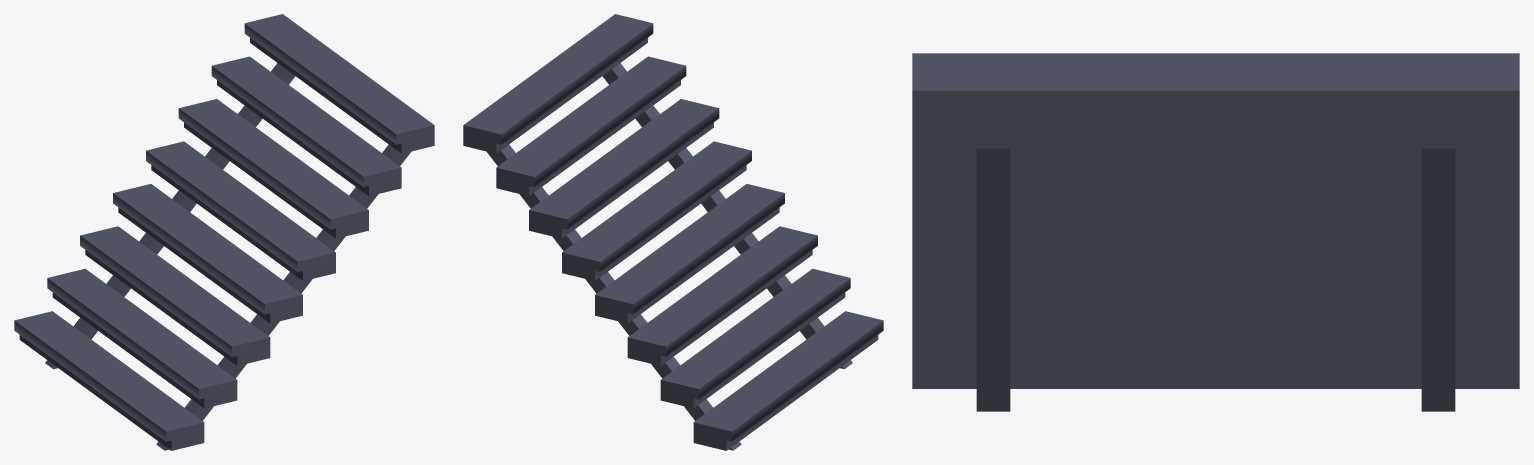
File: stairs-wide-wood.glb
The picture shows the model from 3 angles, left to right: view 1: azimuth 30°, elevation 25°; view 2: azimuth 150°, elevation 25°; view 3: azimuth 270°, elevation 25°; orthographic projection. The views are drawn at different scales.
Visible parts, largest first — view 1: stairs-wide-wood; view 2: stairs-wide-wood; view 3: stairs-wide-wood.
Boxes of the visible parts, box(x1,y1,x2,y2) form: stairs-wide-wood: box(14, 14, 434, 450); stairs-wide-wood: box(463, 14, 883, 450); stairs-wide-wood: box(912, 53, 1519, 411).
Bounding box in the file's own units: 1.02 × 1 × 1.
Materials: 1 (1 with a texture image).
